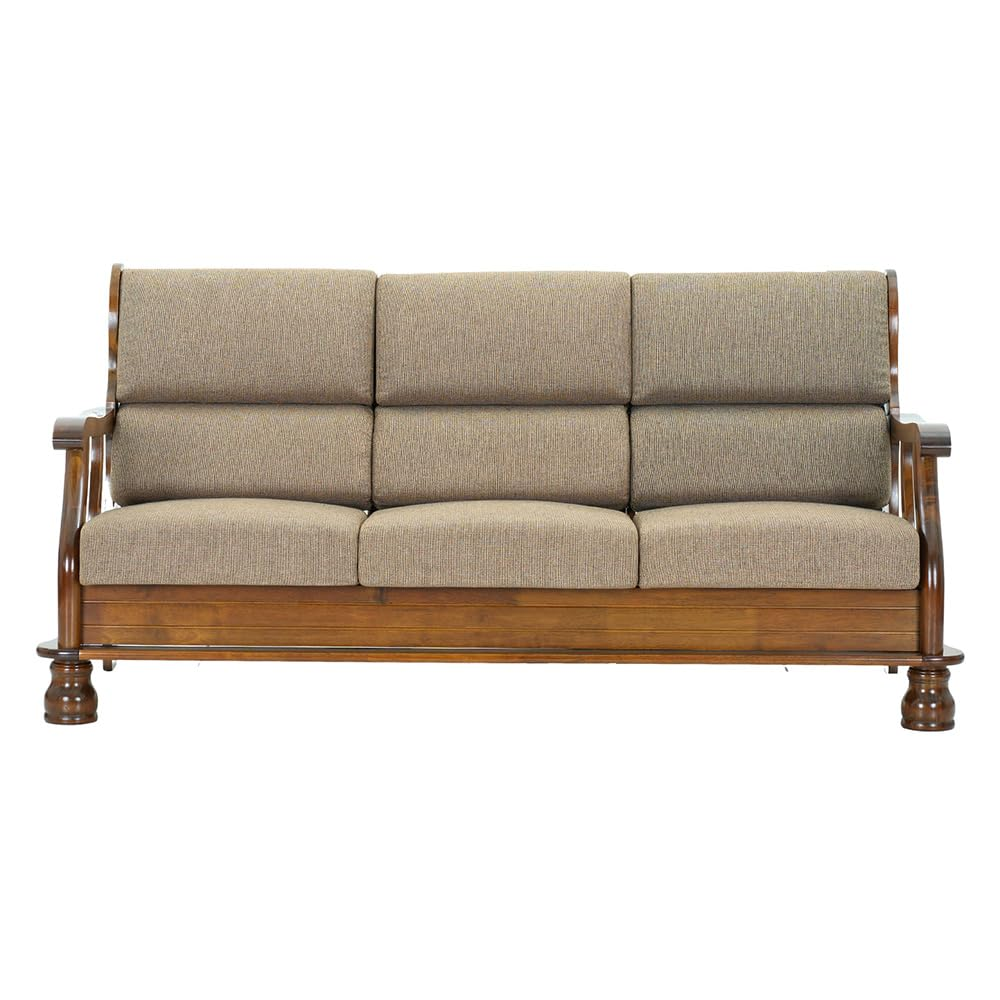3seatersofa: (40, 268, 960, 727)
backrest: (115, 269, 889, 510)
base: (39, 586, 960, 672)
leftarmrest: (891, 415, 950, 653)
leg: (901, 665, 954, 731), (44, 660, 97, 724)
rightarmrest: (53, 404, 114, 647)
seat: (82, 499, 919, 590)
